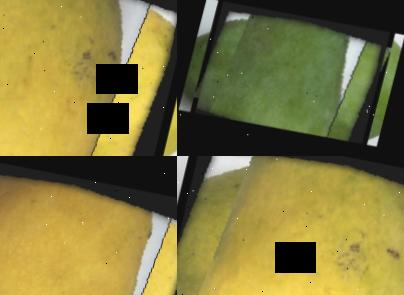PartiallyRipe: (177, 156, 404, 295), (0, 0, 177, 156)
Ripe: (0, 156, 177, 295)
Unripe: (193, 0, 390, 152)
